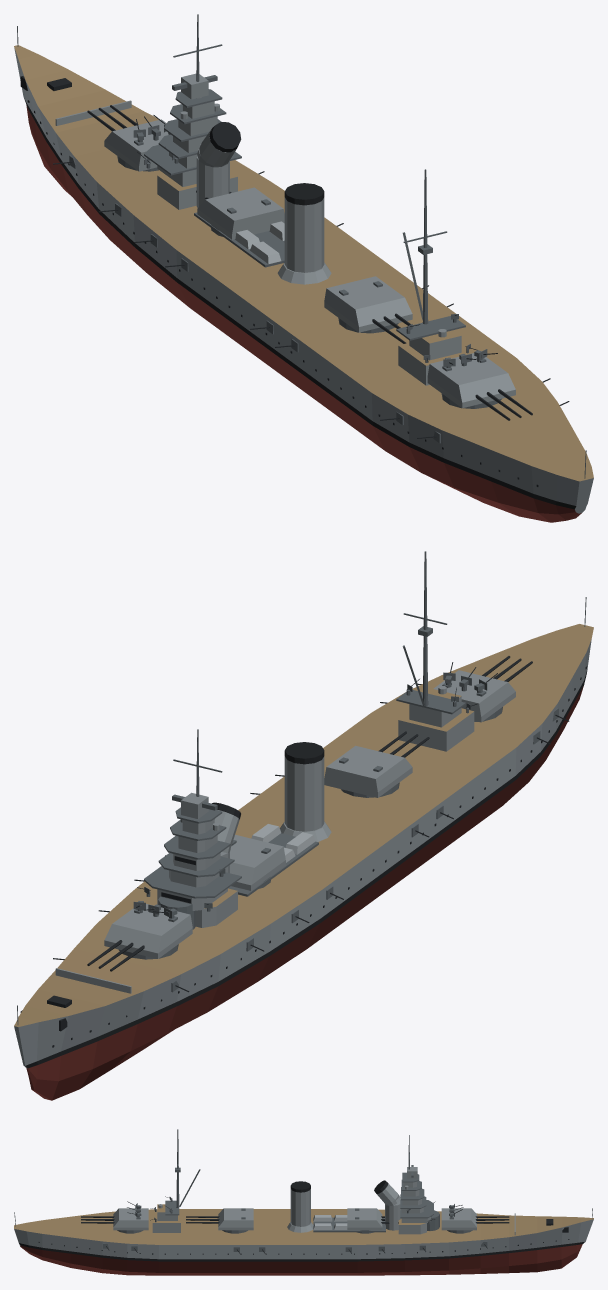
The model's file is gangut.glb.
3 views of the same model, one above another, from view 1: azimuth 30°, elevation 25°; view 2: azimuth 150°, elevation 25°; view 3: azimuth 270°, elevation 25° (orthographic). The views are drawn at different scales.
Parts seen in each view (by area): view 1: Hull, Turret 3 house, Turret 4 house, Turret 2 house, Aft funnel, Turret 1 house, Fwd funnel, Tower base, Aft bridge 2, Aft bridge, Boat deck, Aft platform (+4 smaller); view 2: Hull, Turret 3 house, Turret 1 house, Aft funnel, Turret 2 house, Aft bridge, Turret 4 house, Tower platform 0, Tower base, Aft bridge 2, Aft platform, Aft funnel cap (+1 smaller); view 3: Hull, Turret 3 house, Turret 2 house, Turret 1 house, Turret 4 house, Aft funnel, Aft bridge, Fwd funnel, Boat deck, Tower base, Tower platform 0, Fwd funnel bend (+1 smaller).
Boxes of the visible parts, box(x1,y1,x2,y2) form: Hull: box(14, 45, 593, 522); Turret 3 house: box(324, 276, 412, 332); Turret 4 house: box(427, 353, 515, 408); Turret 2 house: box(197, 187, 284, 239); Aft funnel: box(284, 197, 324, 272); Turret 1 house: box(104, 119, 168, 171); Fwd funnel: box(196, 156, 229, 207); Tower base: box(157, 170, 237, 209); Aft bridge 2: box(409, 330, 461, 360); Aft bridge: box(398, 343, 472, 385); Boat deck: box(194, 212, 284, 267); Aft platform: box(396, 316, 465, 340); Hull: box(14, 624, 593, 1100); Turret 3 house: box(324, 745, 412, 797); Turret 1 house: box(104, 904, 192, 958); Aft funnel: box(284, 756, 324, 831); Turret 2 house: box(230, 834, 285, 890); Aft bridge: box(398, 708, 474, 751); Turret 4 house: box(433, 670, 515, 722); Tower platform 0: box(144, 866, 241, 898); Tower base: box(157, 888, 237, 927); Aft bridge 2: box(409, 688, 461, 727); Aft platform: box(396, 690, 465, 714); Aft funnel cap: box(284, 742, 324, 764); Hull: box(14, 1209, 593, 1275); Turret 3 house: box(218, 1208, 253, 1230); Turret 2 house: box(347, 1208, 382, 1230); Turret 1 house: box(441, 1208, 476, 1230); Turret 4 house: box(113, 1208, 148, 1230); Aft funnel: box(290, 1188, 310, 1226); Aft bridge: box(152, 1211, 180, 1232); Fwd funnel: box(385, 1201, 401, 1230); Boat deck: box(313, 1217, 385, 1232); Tower base: box(398, 1218, 426, 1234); Tower platform 0: box(400, 1200, 433, 1218); Fwd funnel bend: box(377, 1183, 398, 1204).
Size of the model in its own units: 33.27 by 49.3 by 184.
